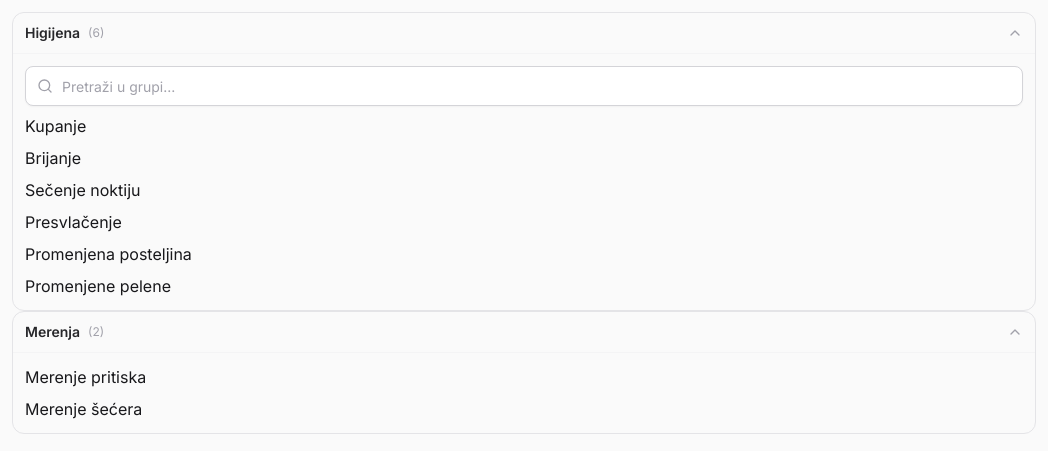
Scenario: SearchGroup › pretraga po počecima reči samo u svojoj grupi
Step 1. Type "prom" into the field named "Pretraži: Higijena" → (524,86), box [25, 66, 1023, 106]
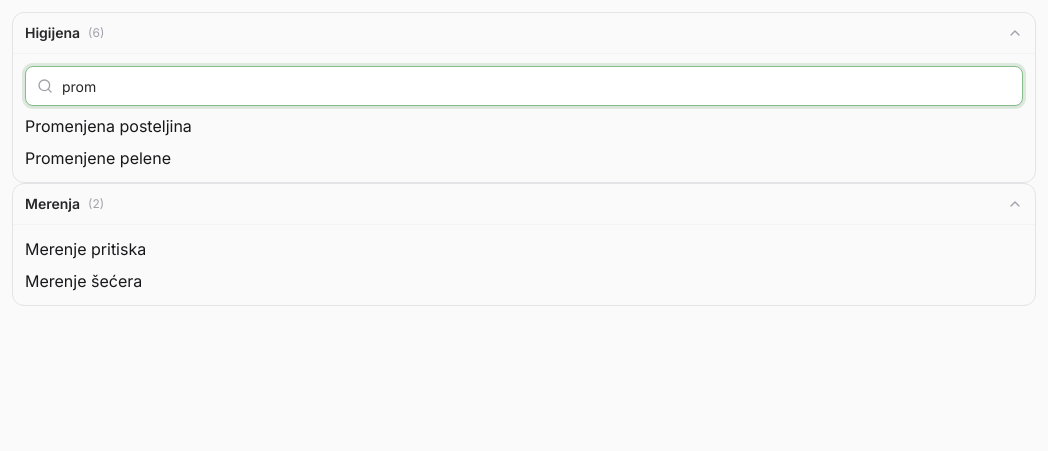
Expected: the text "Promenjena posteljina" is shown, [25, 116, 192, 136]
Now the text "Kupanje" is gone
